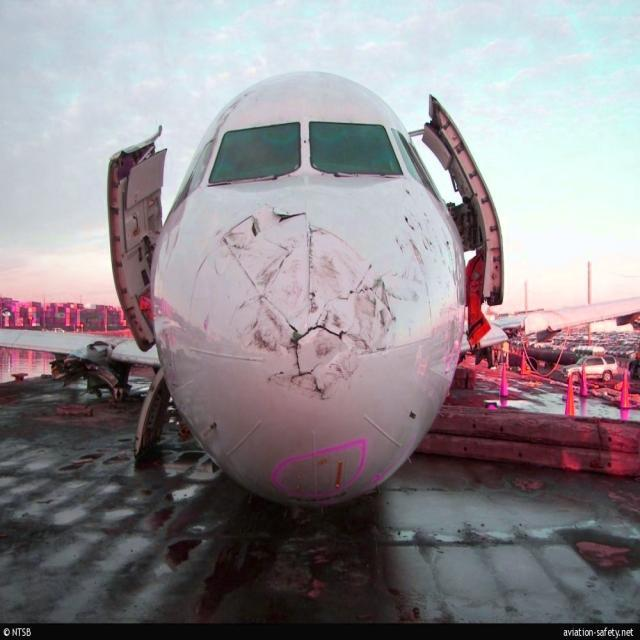crack: (217, 207, 399, 408)
